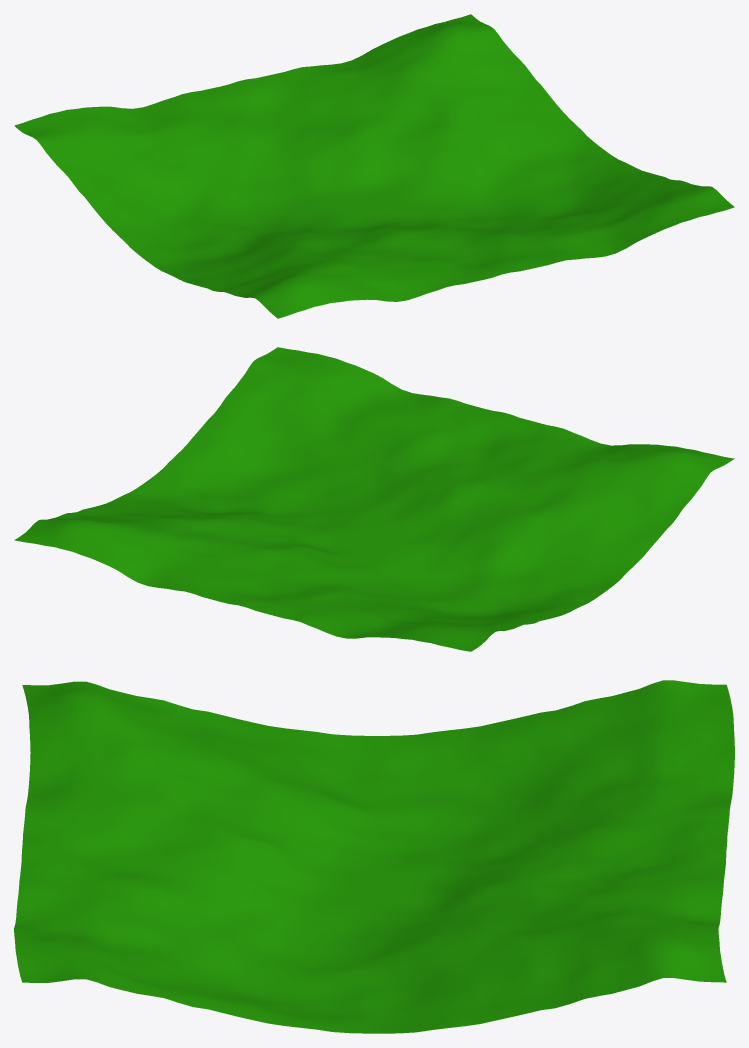
Rendered from Glooiendlandschap.fbx.
The picture shows the model from 3 angles, top to bottom: view 1: azimuth 30°, elevation 25°; view 2: azimuth 150°, elevation 25°; view 3: azimuth 270°, elevation 25°; orthographic projection. The views are drawn at different scales.
Visible parts, largest first — view 1: Plane; view 2: Plane; view 3: Plane.
Part boxes in pixels (x1=…): Plane: x1=14, y1=14, x2=734, y2=318; Plane: x1=14, y1=347, x2=734, y2=651; Plane: x1=14, y1=680, x2=734, y2=1033.
Size of the model in its own units: 31221 by 3807 by 31812.
